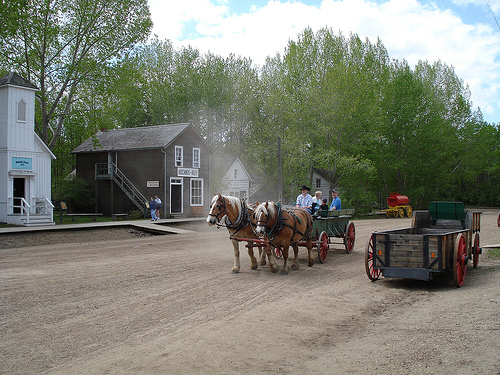horse: (207, 193, 270, 274), (250, 200, 317, 275)
